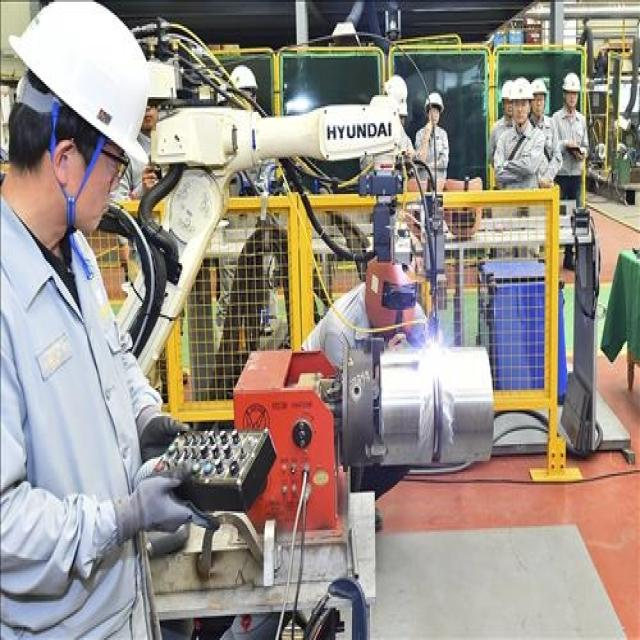welding: (416, 333, 456, 390)
